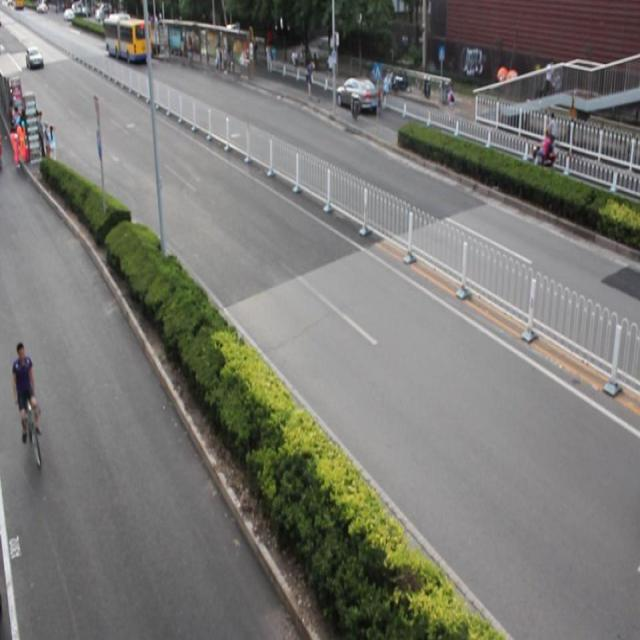car: (332, 75, 379, 117)
